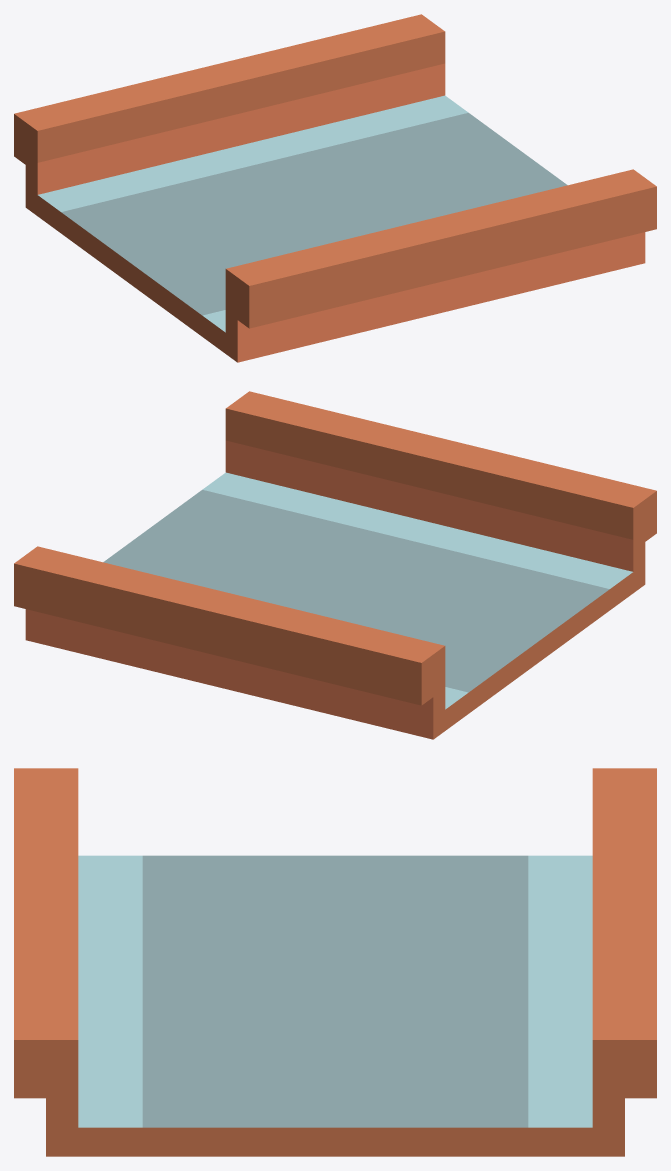
Rendered from bridge_center_woodRound.fbx.
3 renders of one model, top to bottom at view 1: azimuth 30°, elevation 25°; view 2: azimuth 150°, elevation 25°; view 3: azimuth 270°, elevation 25°, orthographic. The views are drawn at different scales.
Parts seen in each view (by area): view 1: bridge_center_woodRound; view 2: bridge_center_woodRound; view 3: bridge_center_woodRound.
Part boxes in pixels (x1,y1,x2,y2): bridge_center_woodRound: (14, 14, 656, 362); bridge_center_woodRound: (14, 391, 656, 739); bridge_center_woodRound: (14, 768, 656, 1156).
Bounding box in the file's own units: 10 × 2 × 10.
